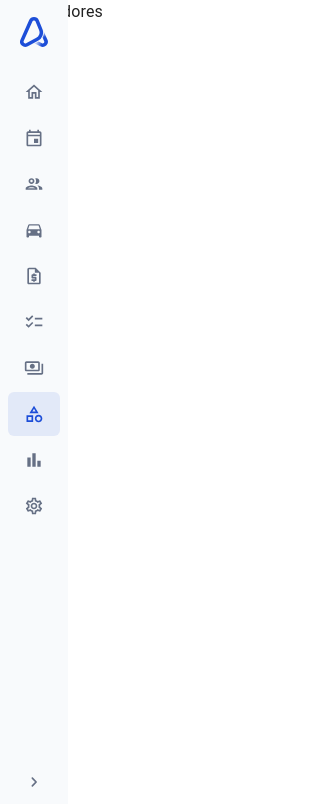
Test case: barra lateral recolhida › Catálogo abre Peças, Serviços e Fornecedores, com o subitem atual marcado
What coordinates should you click on to do the following:
click the button named "Catálogo"
I would click on:
 (34, 414)
Its box is [8, 392, 60, 436].
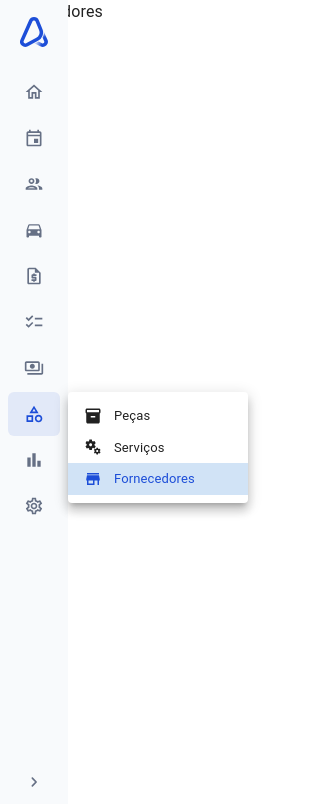
Check: the menu items read "Peças", "Serviços", "Fornecedores", in this order, box [84, 407, 150, 425]; [84, 438, 164, 456]; [68, 463, 248, 494]
